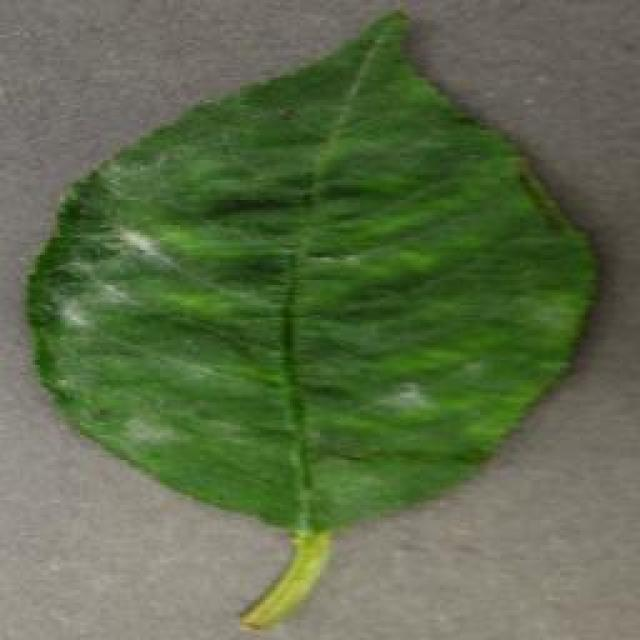Cherry___Powdery_mildew: (3, 0, 605, 640)
